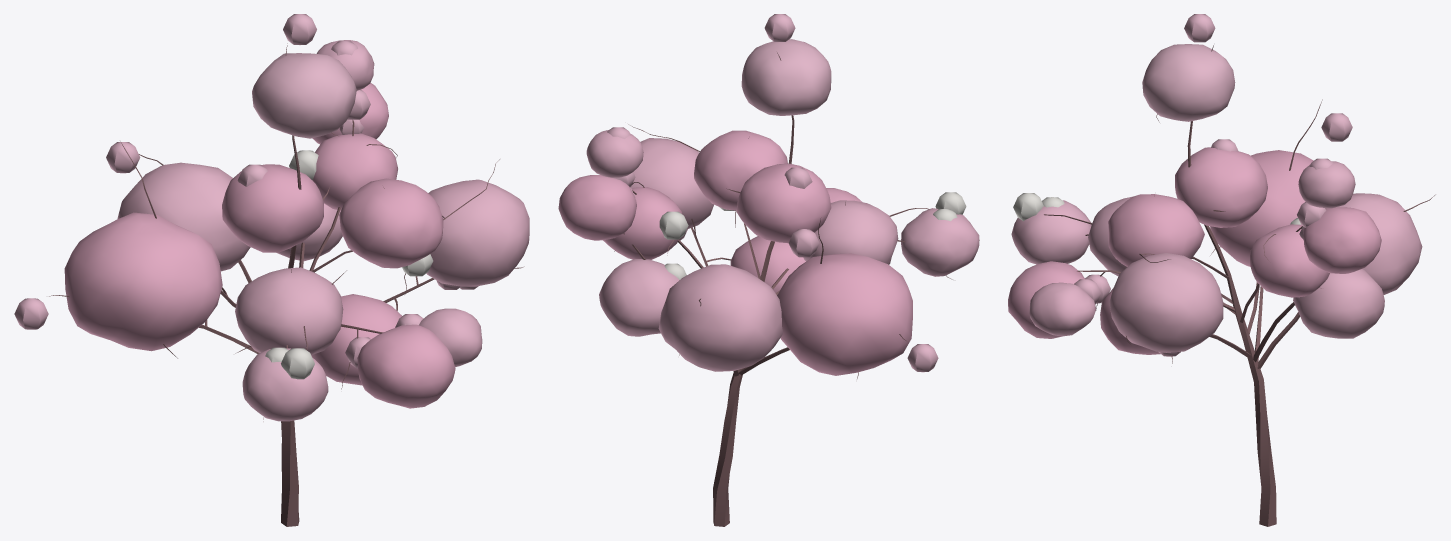
Rendered from hybrid_cherry_blossom.glb.
The picture shows the model from 3 angles, left to right: view 1: azimuth 30°, elevation 25°; view 2: azimuth 150°, elevation 25°; view 3: azimuth 270°, elevation 25°; orthographic projection. The views are drawn at different scales.
Visible parts, largest first — view 1: hybrid_cherry_blossom; view 2: hybrid_cherry_blossom; view 3: hybrid_cherry_blossom.
Boxes of the visible parts, box(x1,y1,x2,y2) form: hybrid_cherry_blossom: box(14, 14, 529, 526); hybrid_cherry_blossom: box(558, 14, 979, 526); hybrid_cherry_blossom: box(1008, 14, 1435, 526).
Bounding box in the file's own units: 5.8 × 7 × 5.48.
